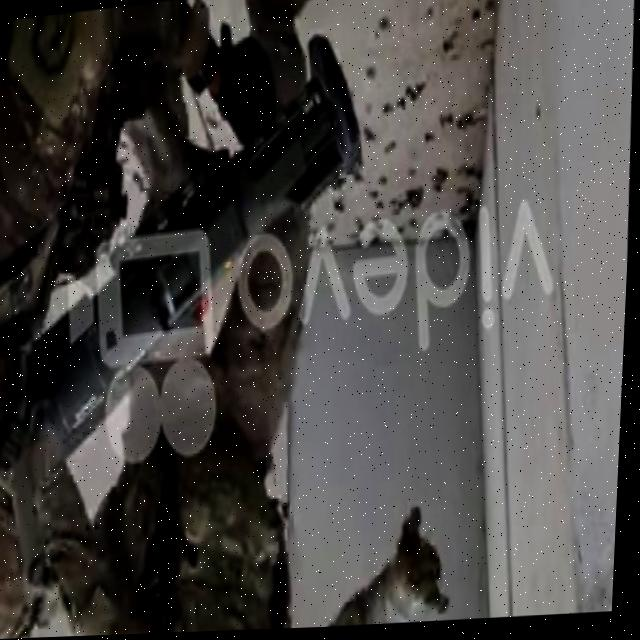rocket: (20, 29, 386, 471)
